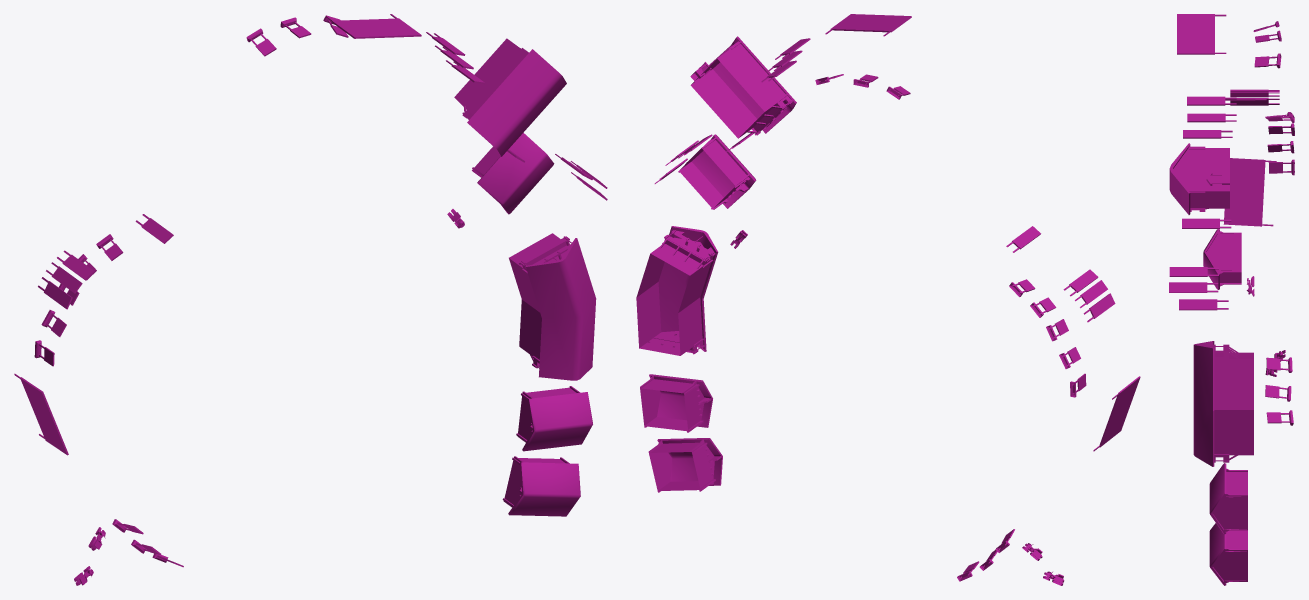
File: J251_WF_adssigns.obj
3 views of the same model, side by side, from view 1: azimuth 30°, elevation 25°; view 2: azimuth 150°, elevation 25°; view 3: azimuth 270°, elevation 25° (orthographic). The views are drawn at different scales.
Parts seen in each view (by area): view 1: J251_WF_adssigns; view 2: J251_WF_adssigns; view 3: J251_WF_adssigns.
Boxes of the visible parts, x1=… form: J251_WF_adssigns: x1=14, y1=14, x2=607, y2=585; J251_WF_adssigns: x1=636, y1=14, x2=1140, y2=585; J251_WF_adssigns: x1=1169, y1=14, x2=1294, y2=585.
Bounding box in the file's own units: 101 × 98.69 × 23.82.
